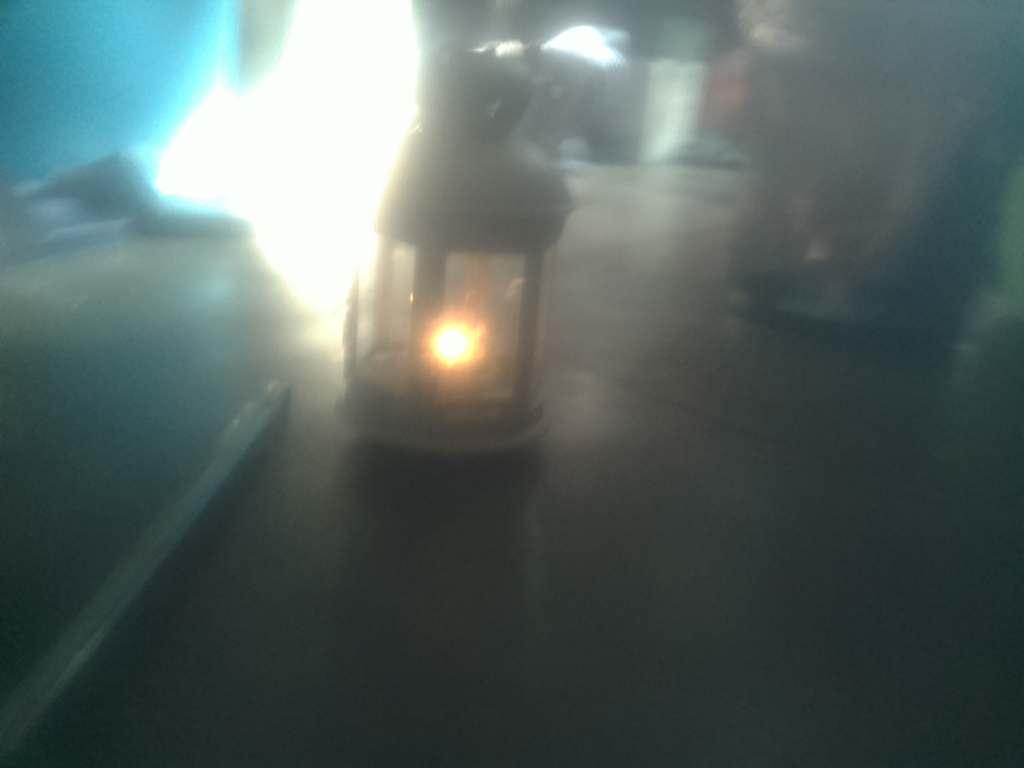fire: (404, 305, 507, 385)
